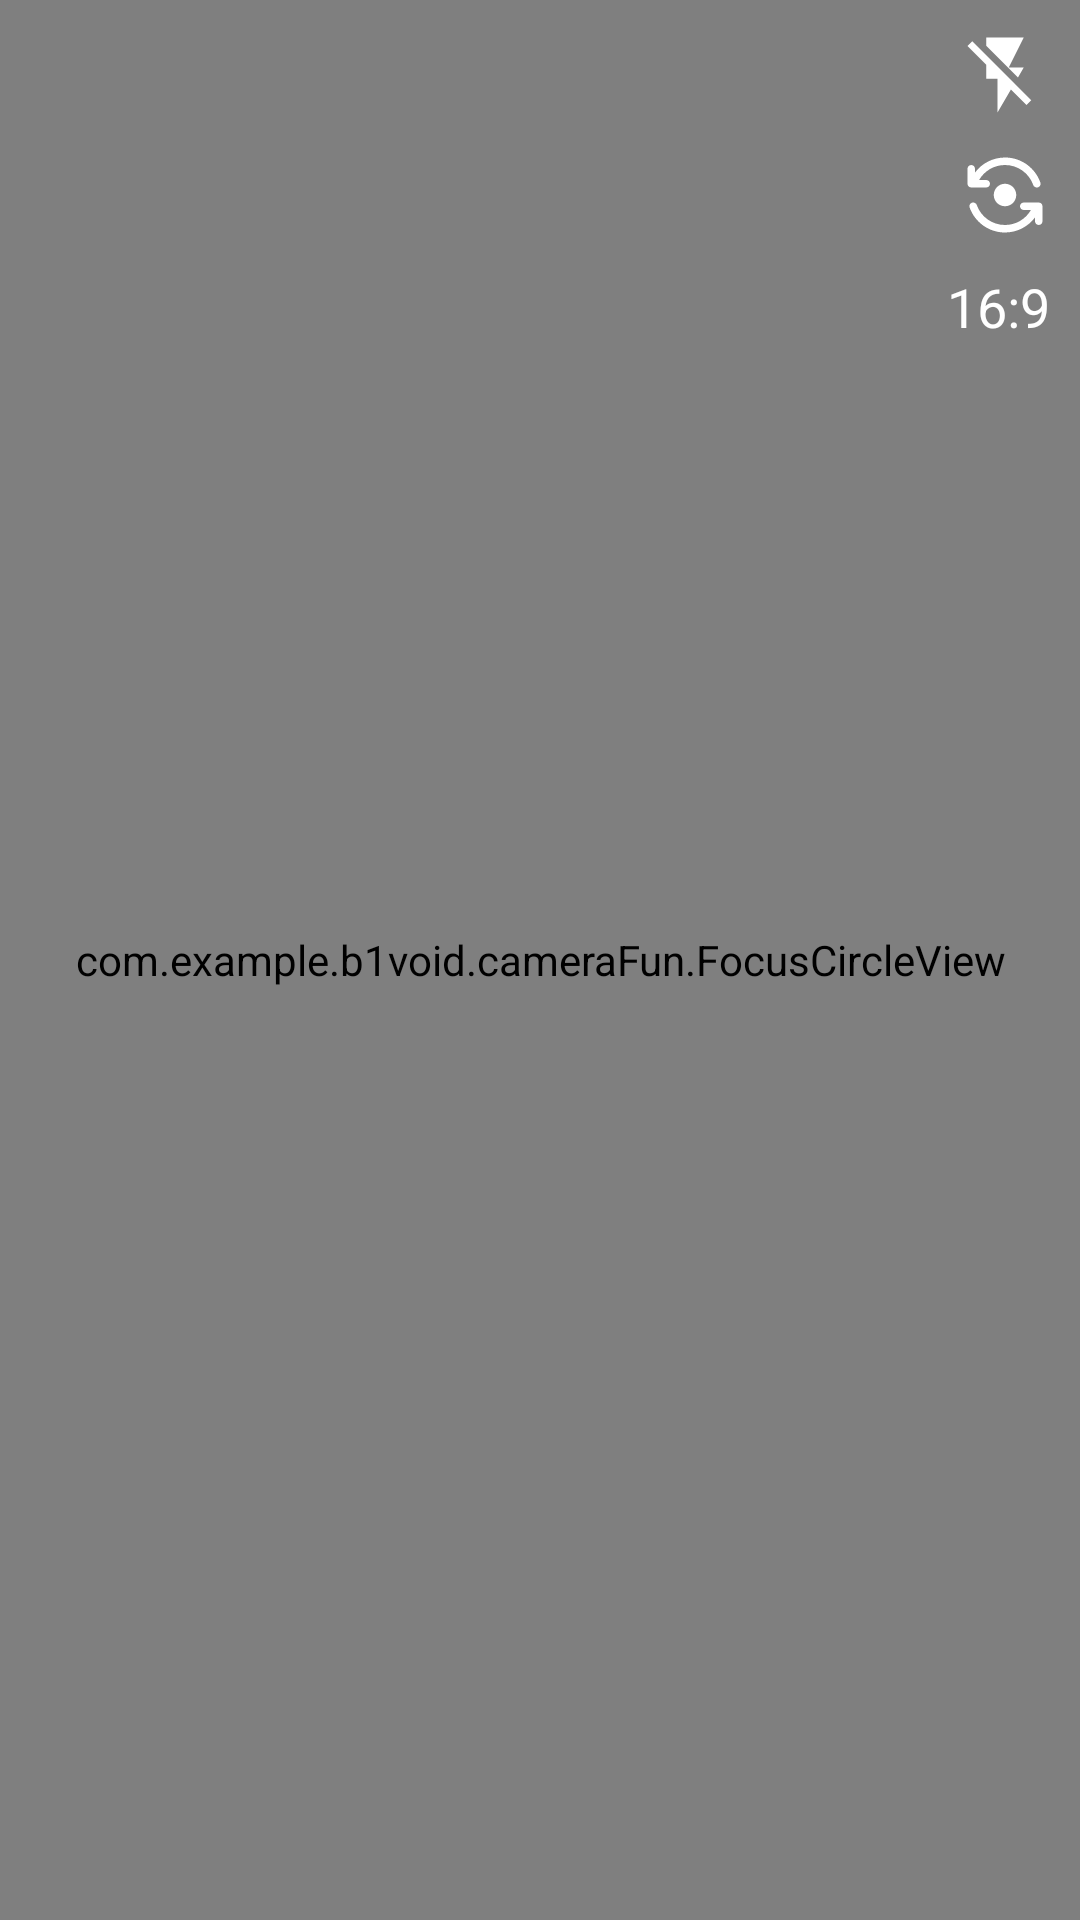

Where icons sit on this 1080w x 1920h app screen, as (x1, y1, x2, y2):
flash off: (968, 37, 1031, 112)
flip camera: (967, 157, 1043, 233)
